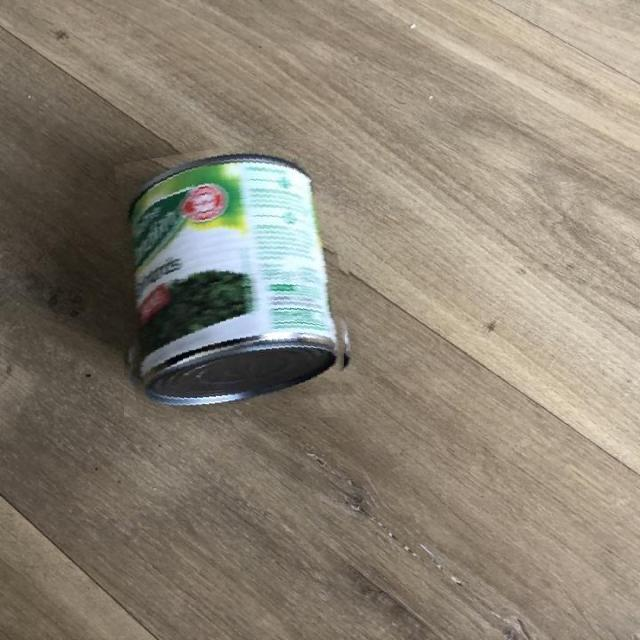recyclable: (124, 140, 357, 418)
